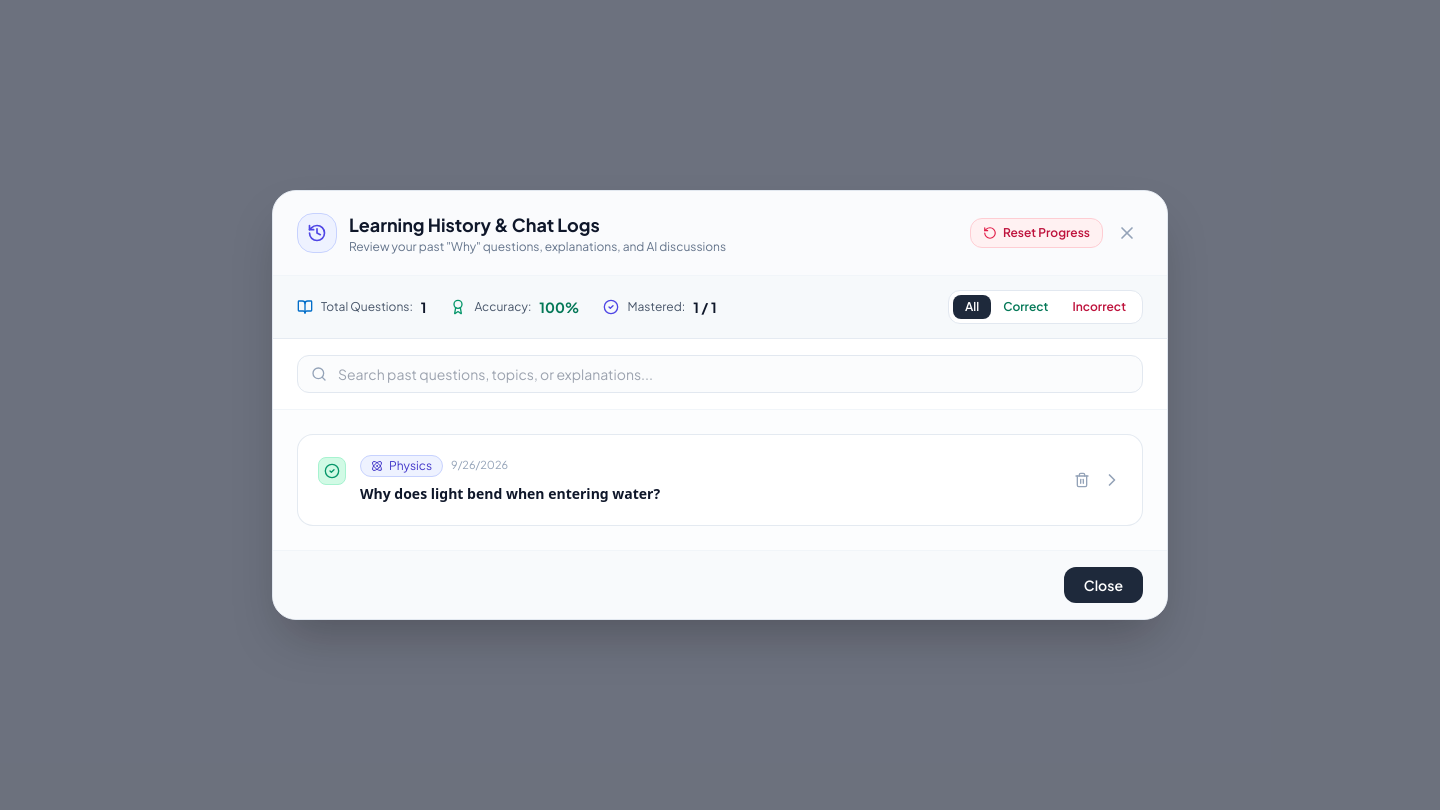
Test: HistoryModal Component › filters history by search query matching subtopic
Expected: the text "Why does light bend when entering water?" is shown, [360, 483, 660, 505]
Type "Electromagnetism" into the field with placeholder "Search past questions, topics, or explanations...".
click(720, 374); type("Electromagnetism")  # box [297, 355, 1143, 393]
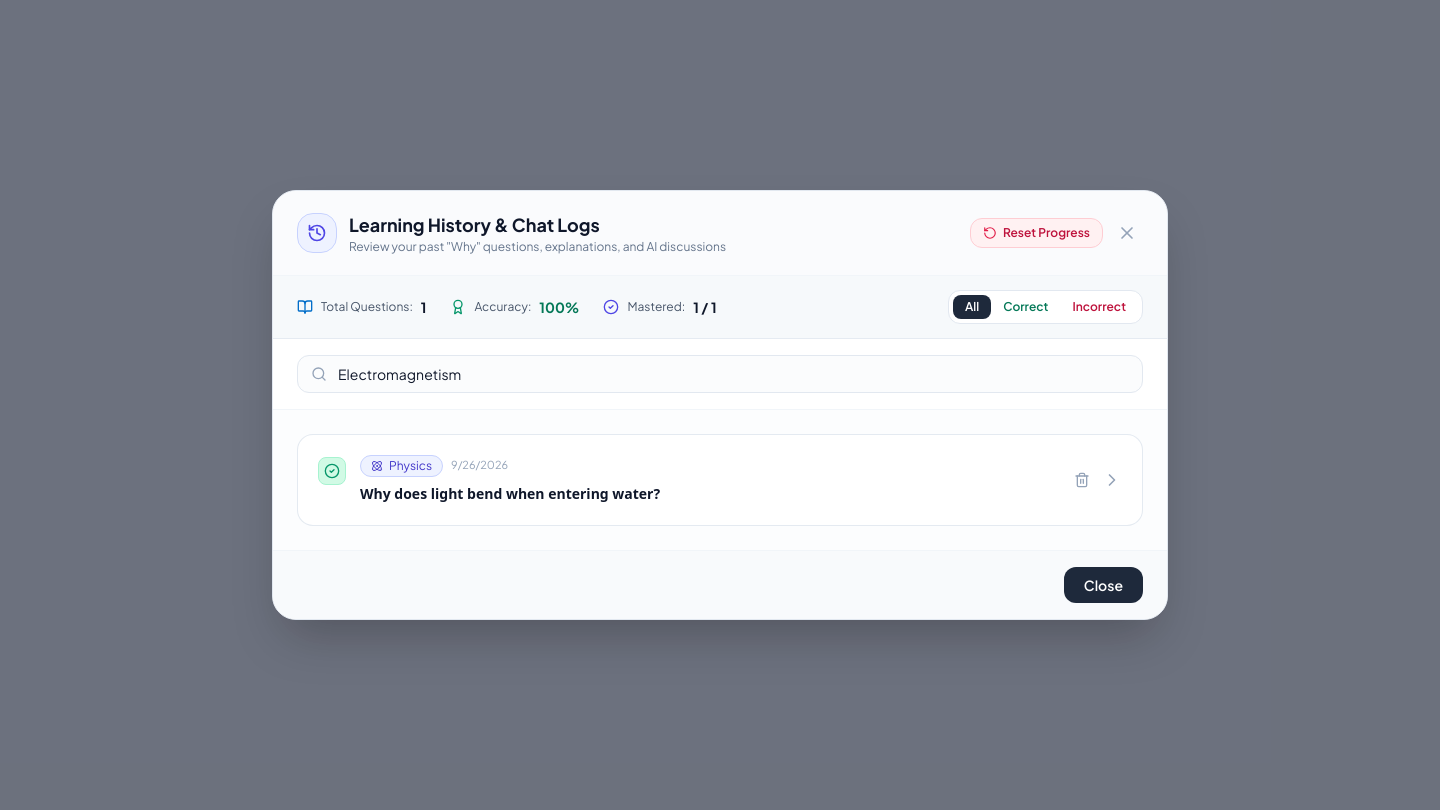
Expected: the text "Why does light bend when entering water?" is shown, [360, 483, 660, 505]
Replace the text in the field with placeholder "Search past questions, topics, or explanations..." with "Quantum non-existent" at (720, 374), box [297, 355, 1143, 393]
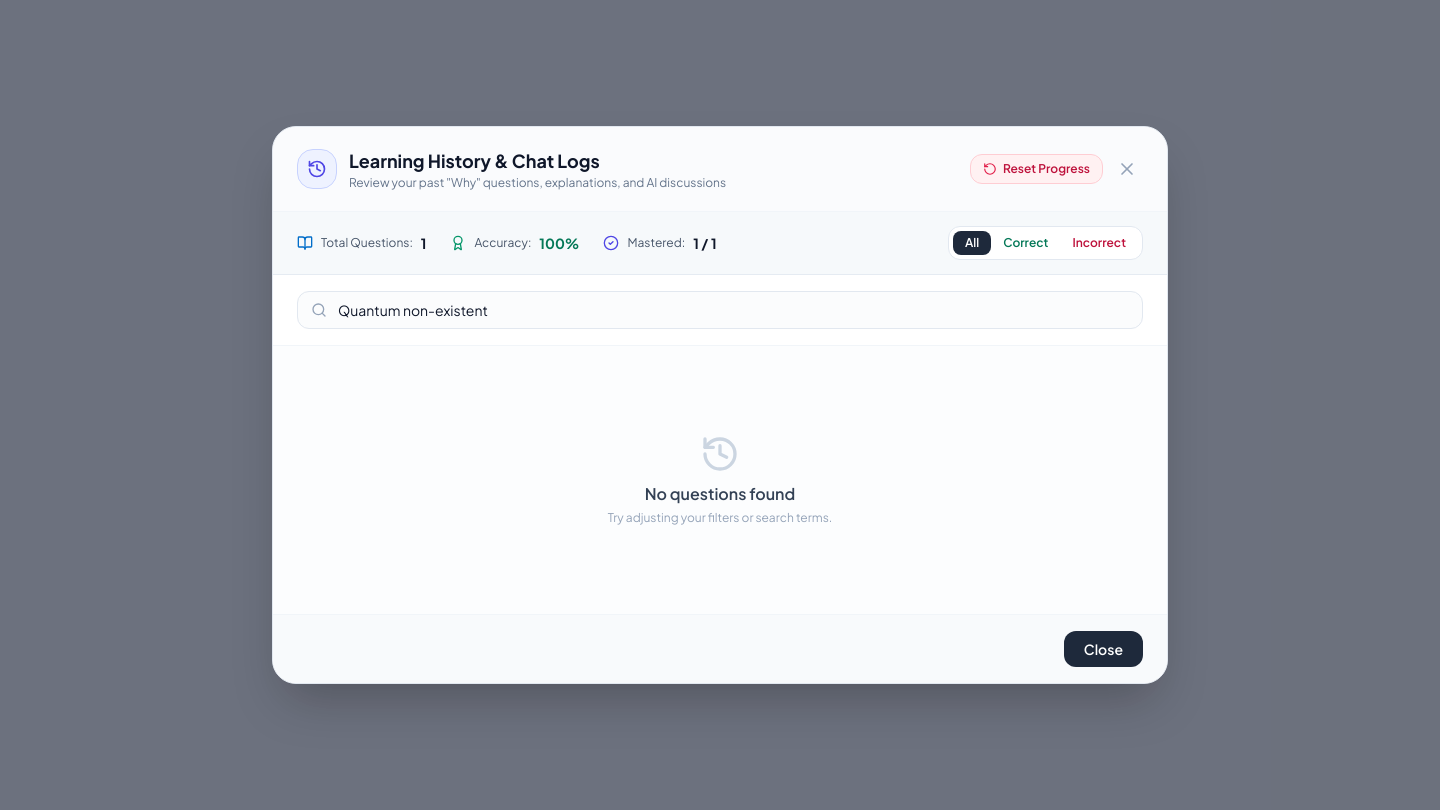
Expected: the text "No questions found" is shown, [645, 483, 795, 504]
